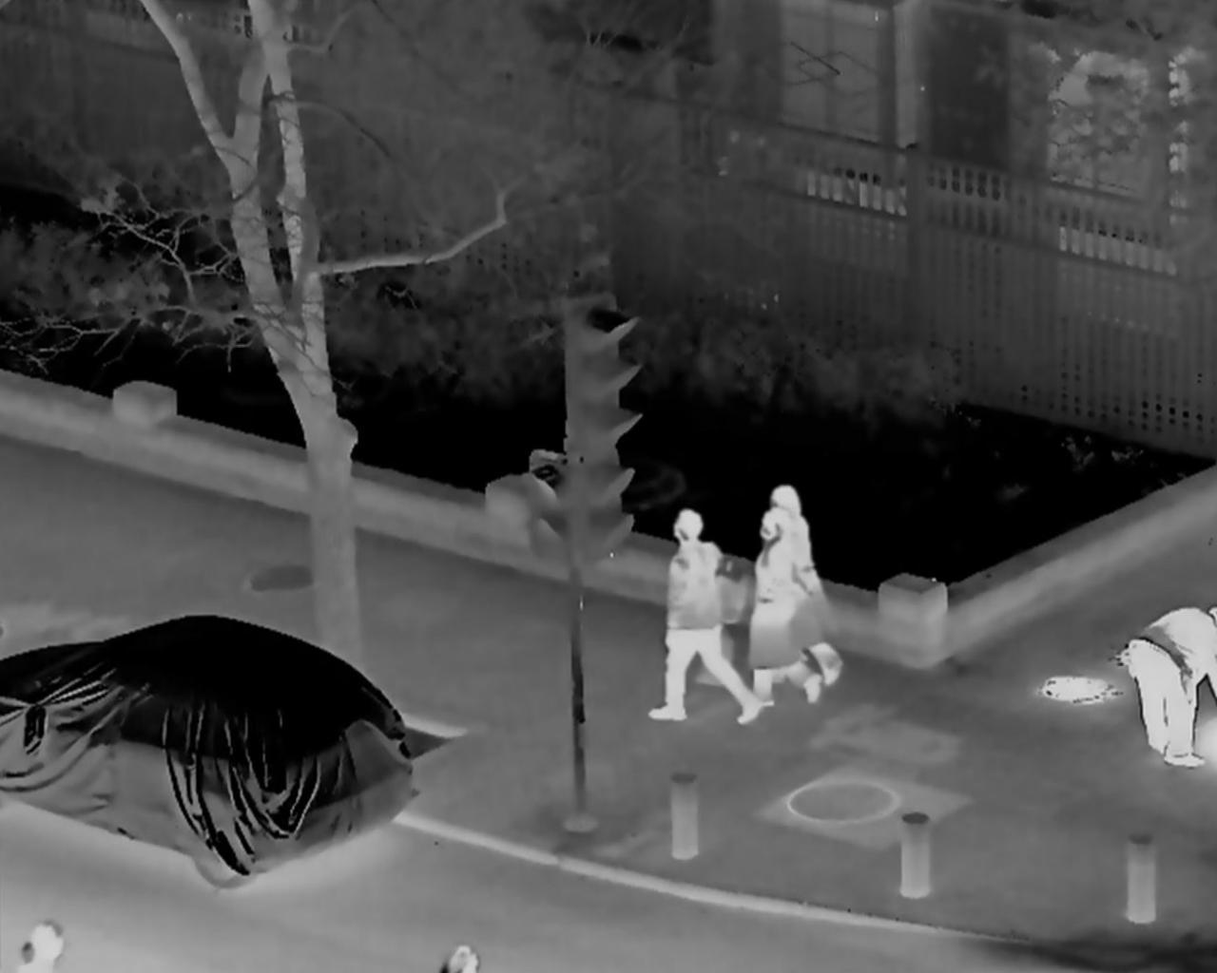person: (646, 509, 760, 727), (760, 486, 849, 686), (1126, 605, 1214, 776), (747, 510, 821, 708)
